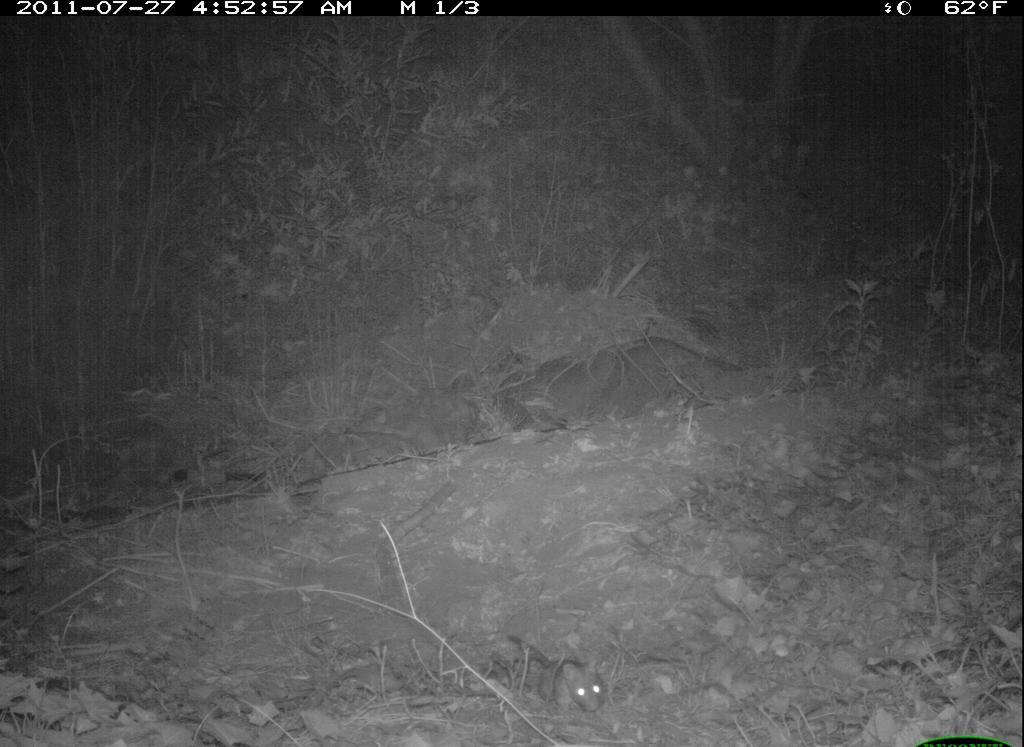rodent: (506, 632, 609, 720)
